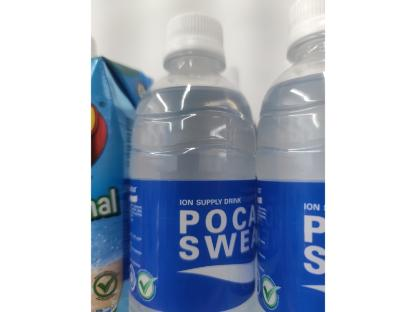Plastic Bottle: (130, 11, 256, 312)
